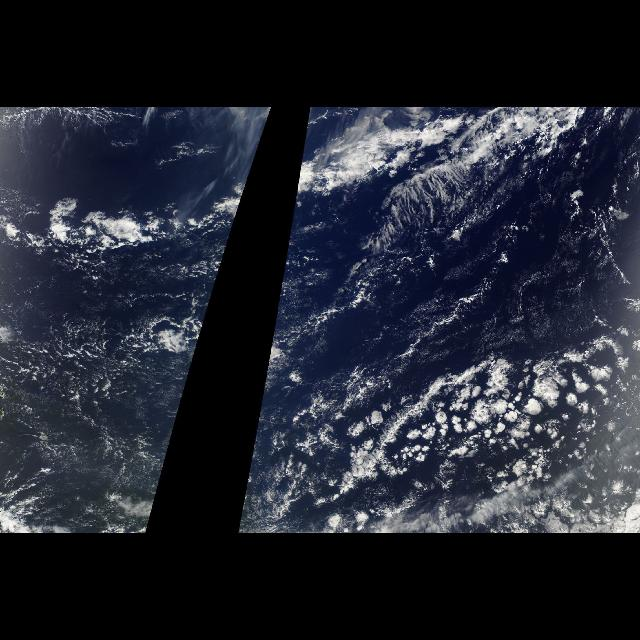Fish: (294, 148, 501, 348)
Flower: (340, 358, 640, 500)
Gravel: (0, 300, 162, 498), (393, 344, 621, 468)
Sugar: (0, 252, 226, 532)
